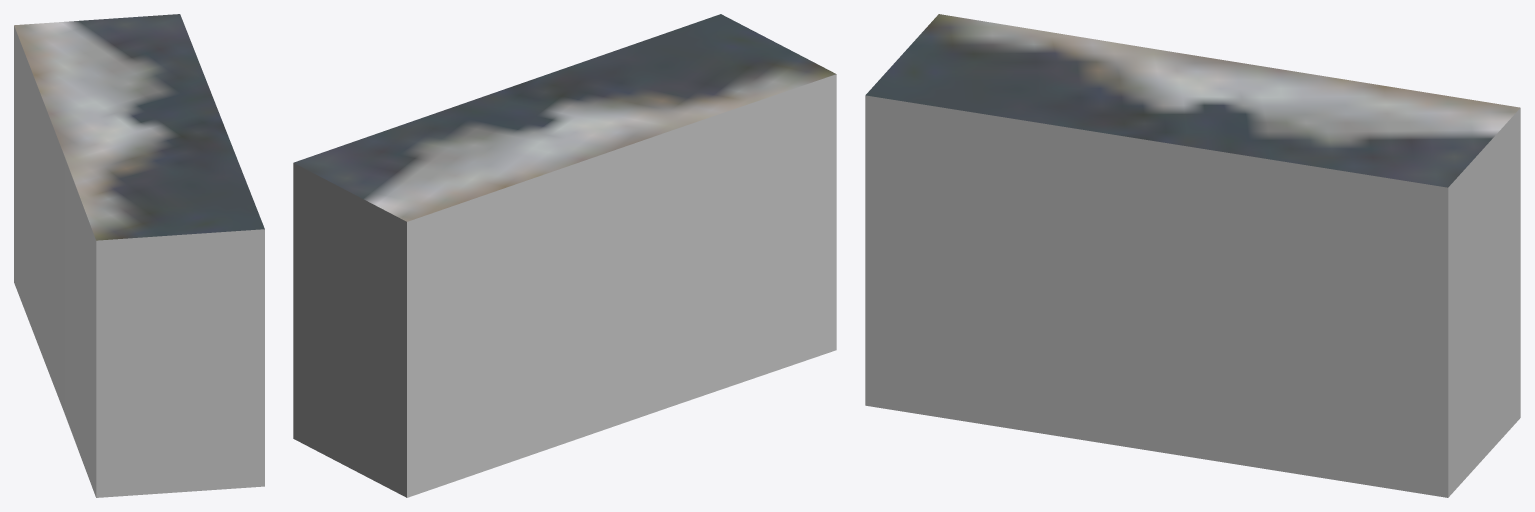
The model's file is DEBW_0010007TxfL.gltf.
3 renders of one model, left to right at view 1: azimuth 30°, elevation 25°; view 2: azimuth 150°, elevation 25°; view 3: azimuth 270°, elevation 25°, orthographic. The views are drawn at different scales.
Parts seen in each view (by area): view 1: Z_UP; view 2: Z_UP; view 3: Z_UP.
Boxes of the visible parts, box(x1,y1,x2,y2) form: Z_UP: box(14, 14, 264, 497); Z_UP: box(293, 14, 836, 497); Z_UP: box(865, 14, 1520, 497).
Size of the model in its own units: 3.97 by 3.31 by 6.33.
2 materials, 1 textured.
